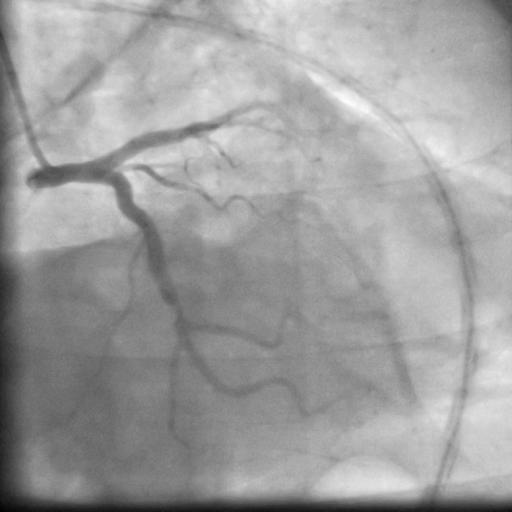Stenosis: (164, 297, 183, 323)
